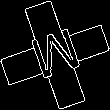M_S: (25, 24, 85, 86)
